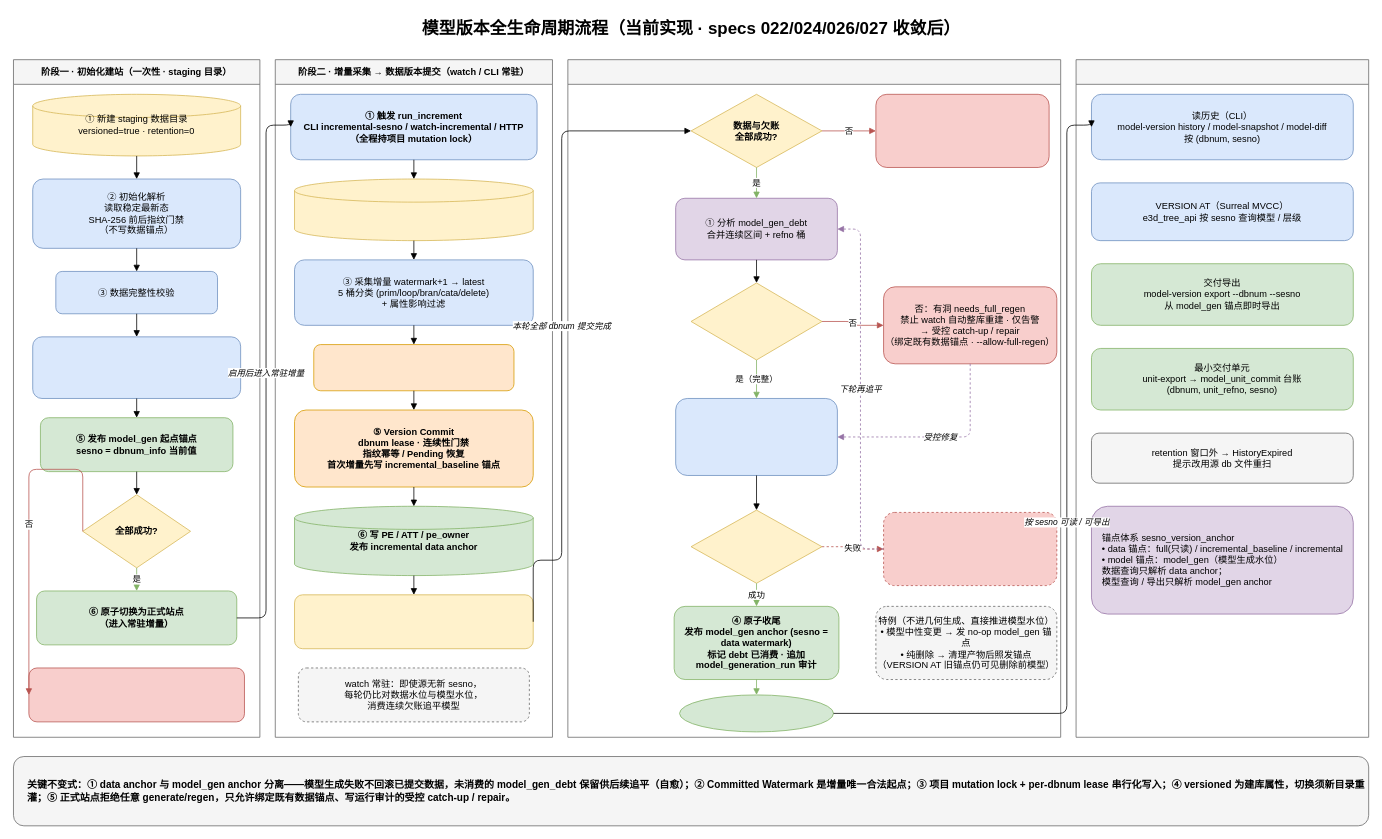
Some shapes in this 1382 by 839 pixel diagram are drawn without their labels. The box of each missing label's shape, as (x1, y1, x2, y2) in pixels:
② 欠账连续覆盖 至 data watermark?: (690, 282, 822, 360)
② 读取 Committed Watermark data anchor 优先 · 回退 dbnum_info: (294, 178, 533, 241)
③ 增量生成 gen_all_geos_data 统一 VERSION AT（生成读取时刻） pre_cleanup + 可选 Parquet 后处理: (675, 398, 837, 475)
④ 源文件 SHA-256 门禁 采集前后必须一致: (313, 344, 514, 391)
④ 首次全量模型生成 活读 staging 当前态 不绑定生成读取时刻: (32, 336, 241, 398)
⑦ 同事务写 model_gen_debt 5 桶 refno + [from, to] 闭区间（幂等）: (294, 594, 533, 649)
任一步失败 → staging 作废 必须用新目录重来（不得原地重试）: (28, 667, 244, 722)
否：跳过本轮模型生成 已提交数据保留 · 不发 model_gen 欠账留待下一轮: (875, 94, 1049, 167)
失败：数据不回滚 欠账保留 · per-dbnum 隔离 下轮 watch / CLI 再追平（自愈）: (883, 512, 1057, 586)
模型版本追平 data watermark: (679, 694, 834, 732)
生成成功?: (690, 509, 822, 583)
阶段三 · 模型生成与欠账追平（每 dbnum · 可自愈重试）: (567, 59, 1061, 737)
阶段四 · 历史查询与交付（读侧 · 只认锚点）: (1075, 59, 1369, 737)
